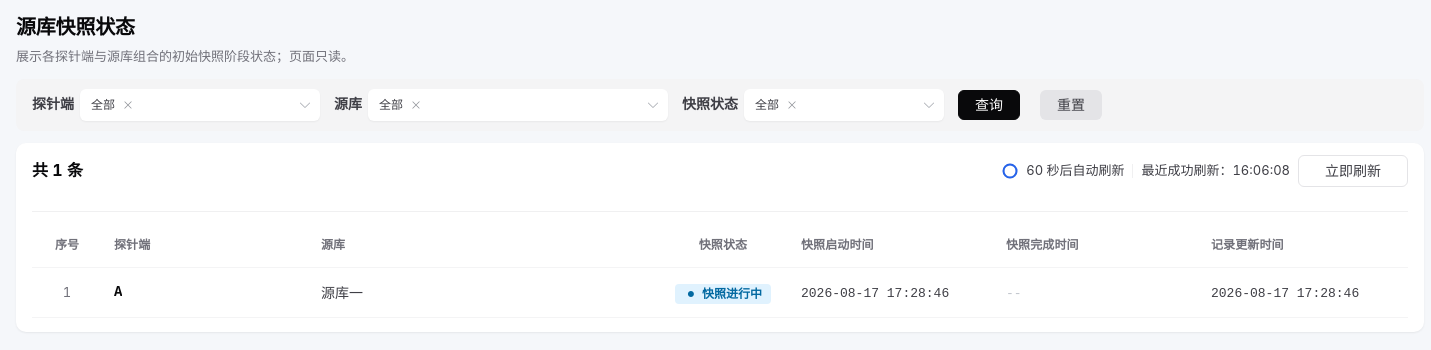
DataSourceRunStatePage 重置不发请求 + 失败稳定槽位（DESIGN §8 E7，DSS-REQ-068，AC-072） › 失败提示出现在稳定槽位，出现/消失不改变结果头部刷新组关键元素
Click the button "立即刷新" at (1353, 170), box 1298,154 -> 1408,186
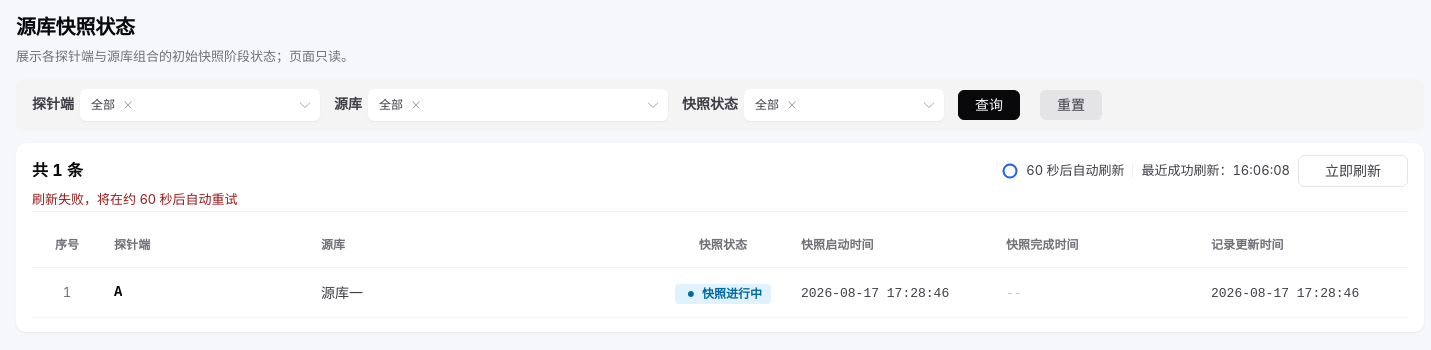
expect the text with class "dss-summary-count" reads "共 1 条": met, box 32,160 -> 83,180
expect the message "刷新失败，将在约 60 秒后自动重试" is shown: met, box 32,189 -> 238,210
expect the message with class "dss-result-error" reads "刷新失败，将在约 60 秒后自动重试": met, box 32,191 -> 238,207
